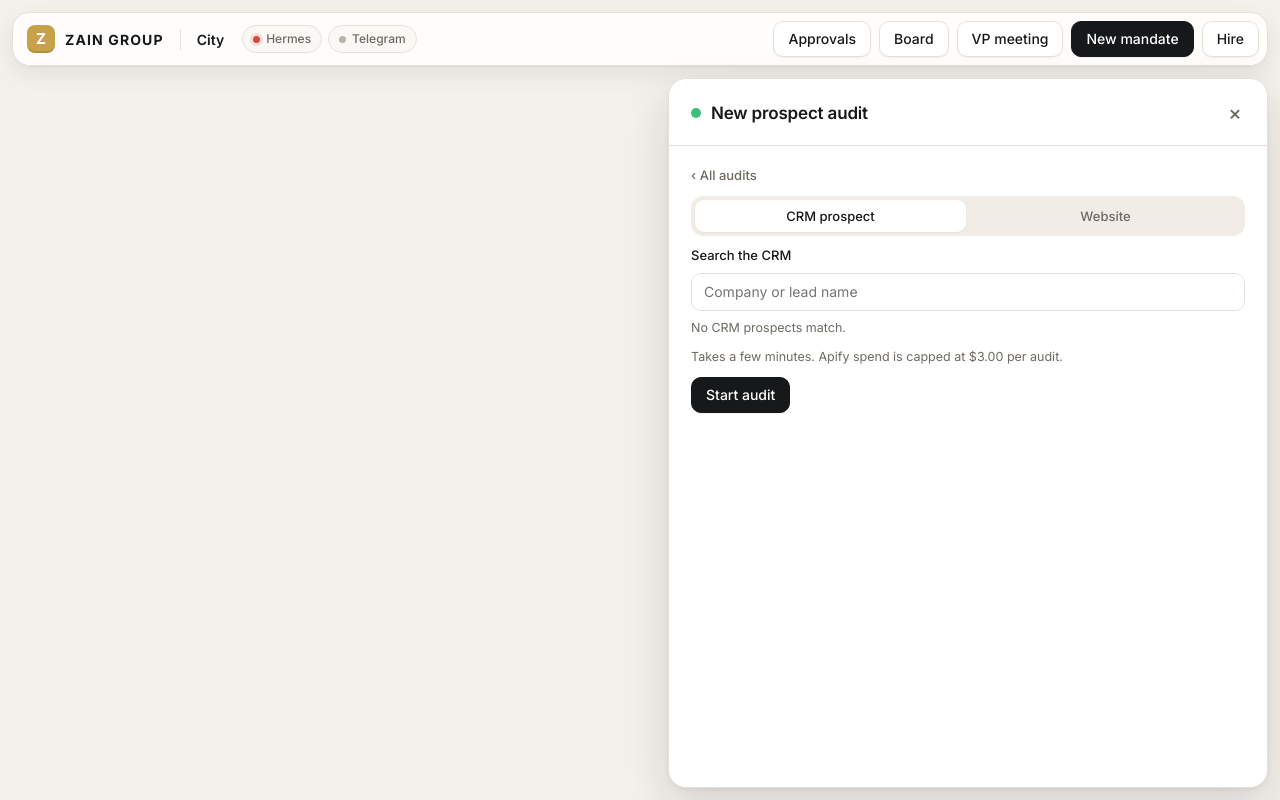
New audit form › shows a server error from starting
Click the radio button labelled "Website": (1106, 216) [970,200,1241,232]
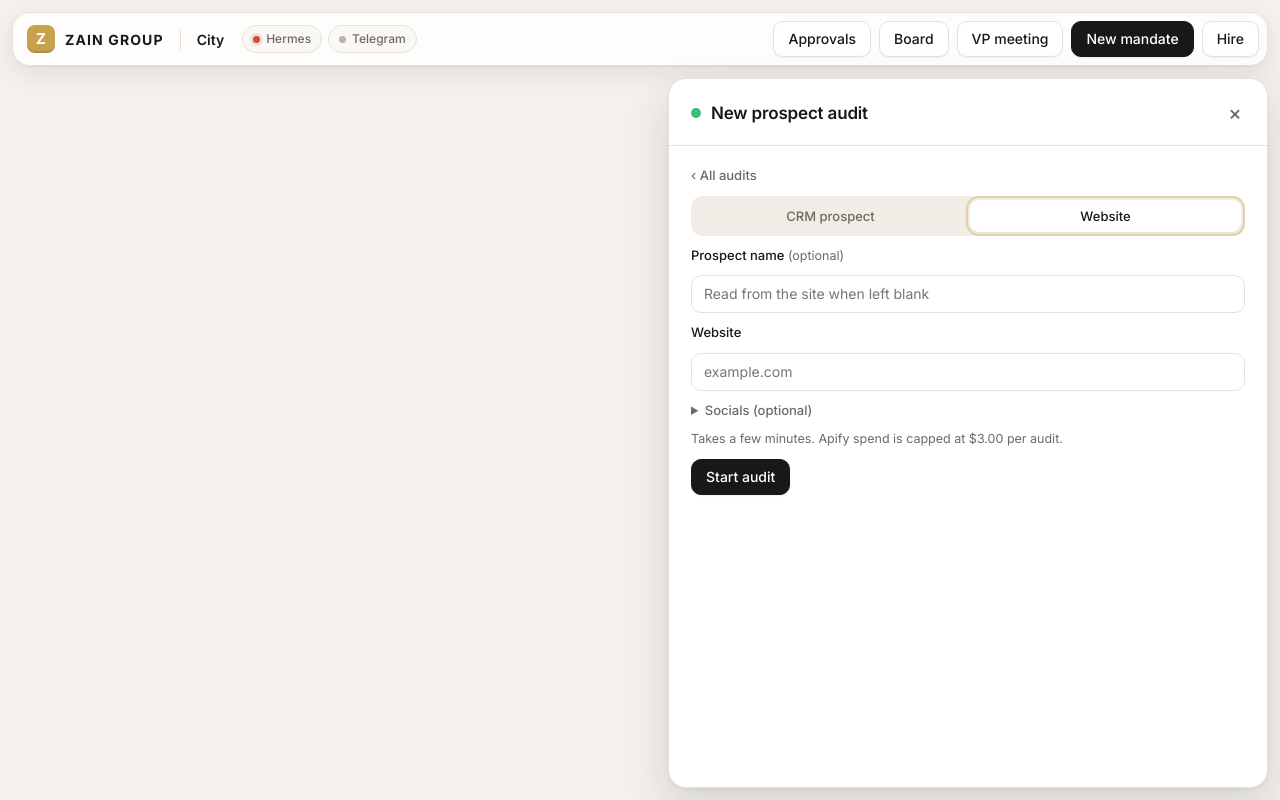
In the field labelled "Website": (968, 372) [691,353,1245,391], type "acme.com"
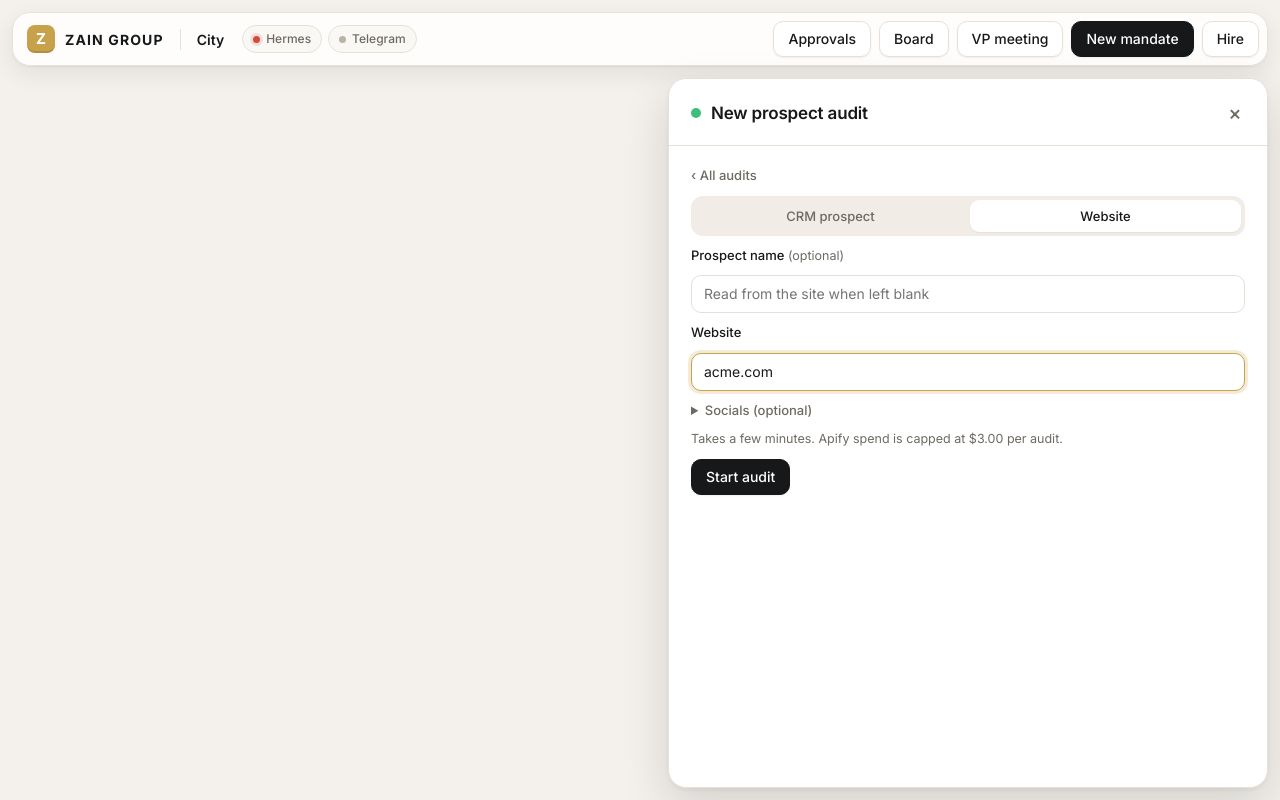
Click the button "Start audit": (741, 477) [691,459,790,495]
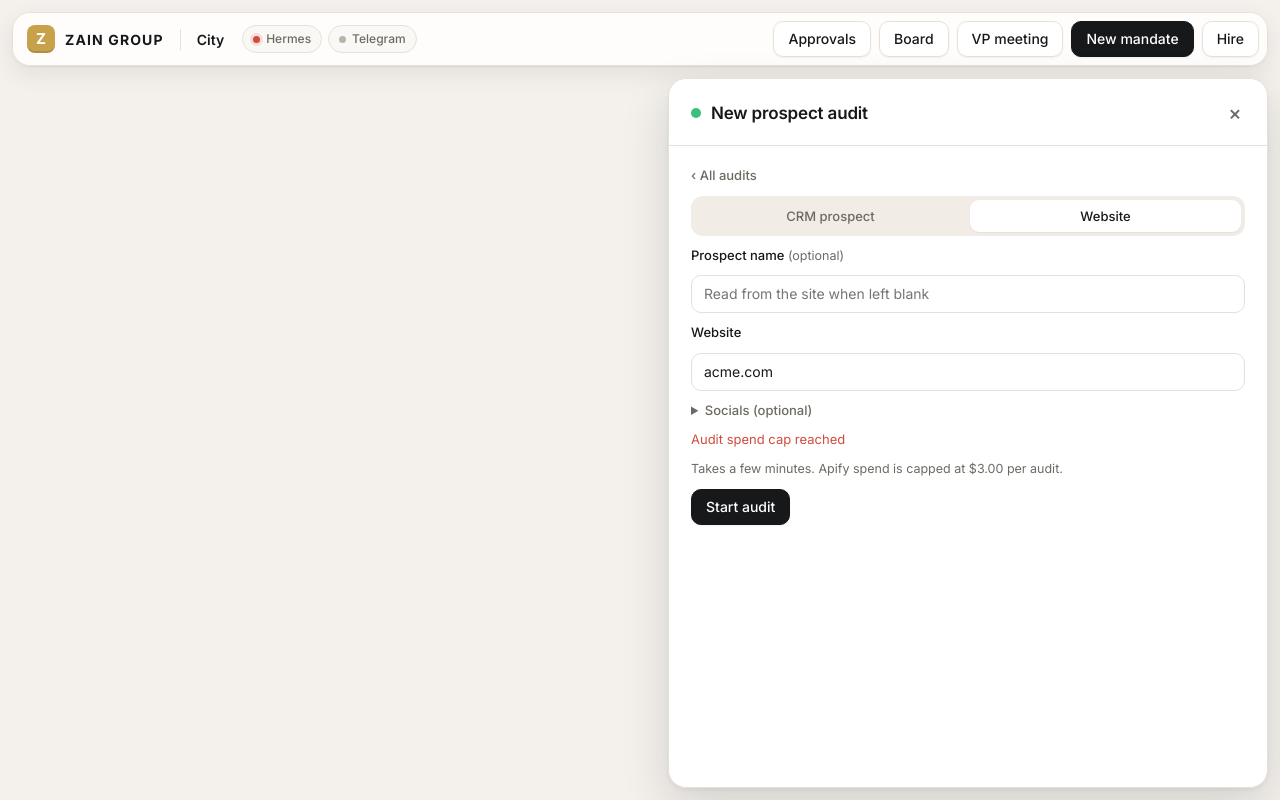
Check: the text "Audit spend cap reached" is shown, box [691,431,845,447]
